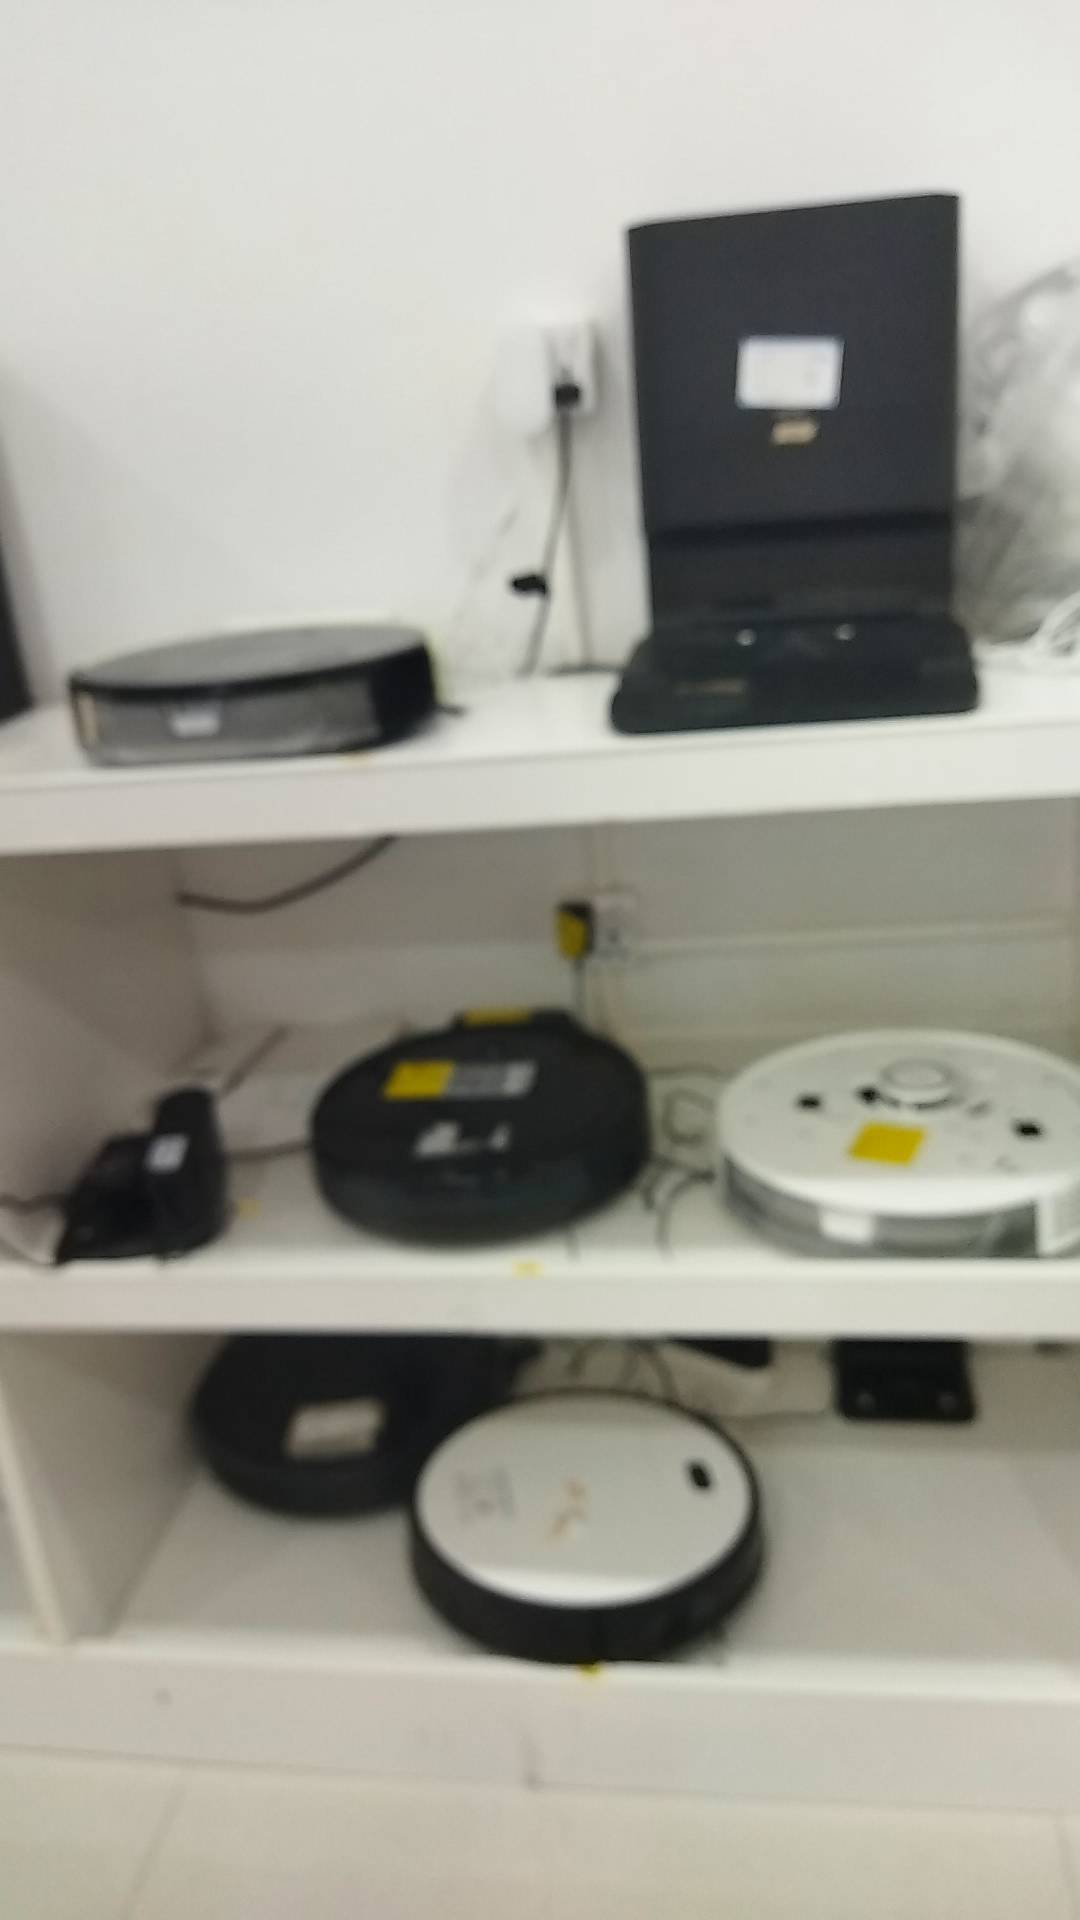dust collecting barrel: (607, 193, 980, 738)
recharge seat: (57, 1087, 237, 1255), (829, 1336, 996, 1431), (632, 1335, 773, 1440)
